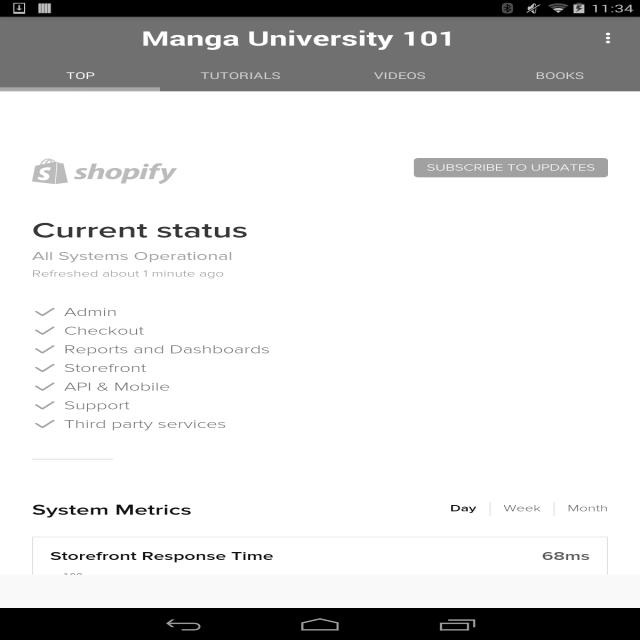ImageView: (589, 22, 631, 54)
TextView: (141, 24, 456, 52), (200, 69, 280, 82), (374, 69, 425, 82), (535, 69, 584, 82), (66, 69, 94, 82)
